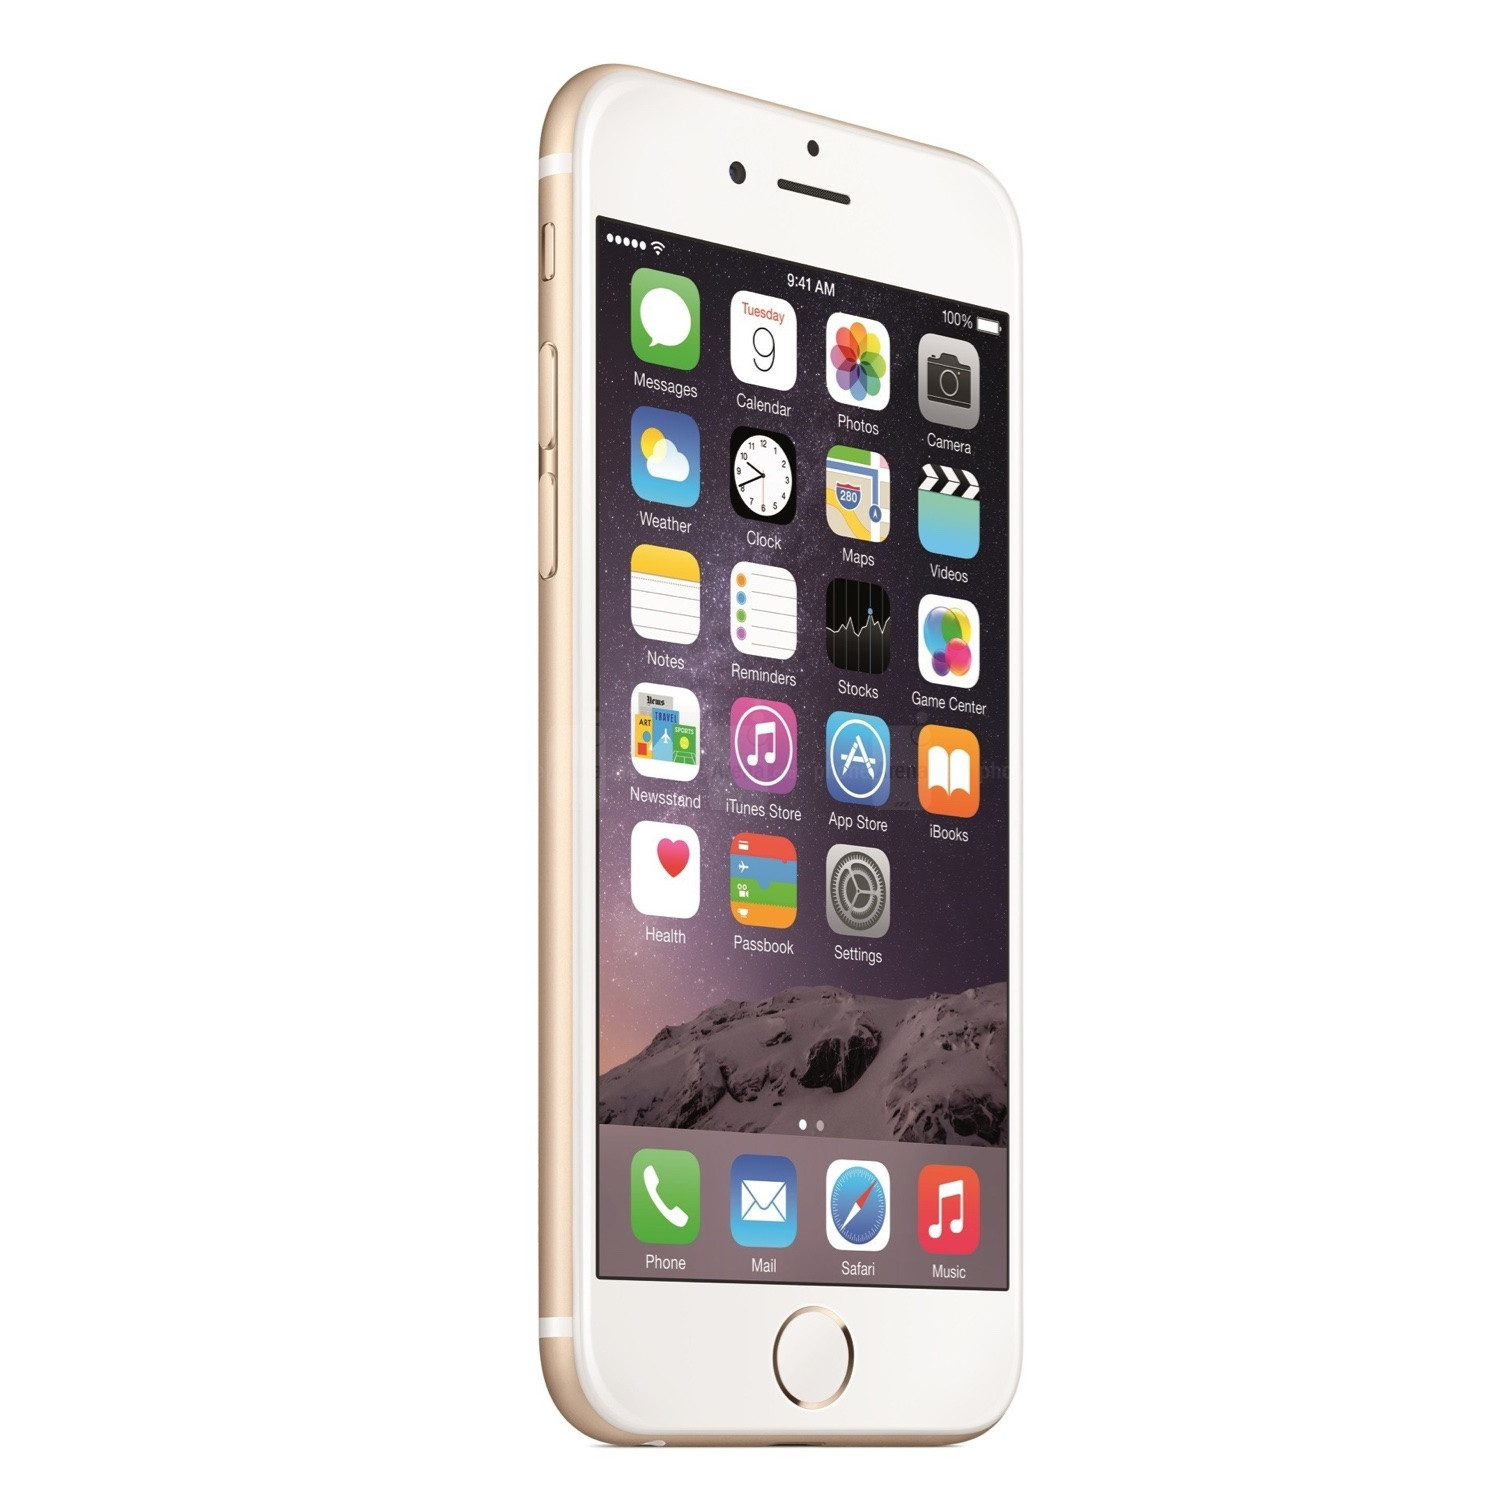smartphone: (537, 62, 1023, 1448)
